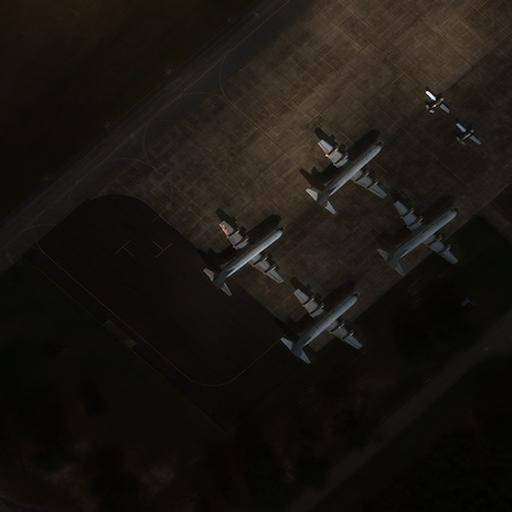Military Transport: (291, 287, 364, 354), (212, 220, 285, 285), (387, 200, 459, 265), (317, 138, 387, 204)
Small Civil Transport: (426, 90, 451, 112), (456, 122, 482, 143)
